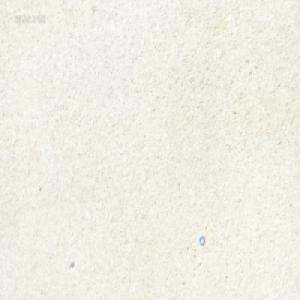Washer: (198, 234, 205, 245)
